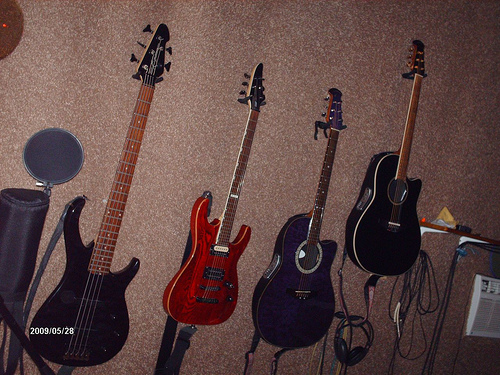guitar: (252, 88, 348, 350), (343, 37, 424, 278)
